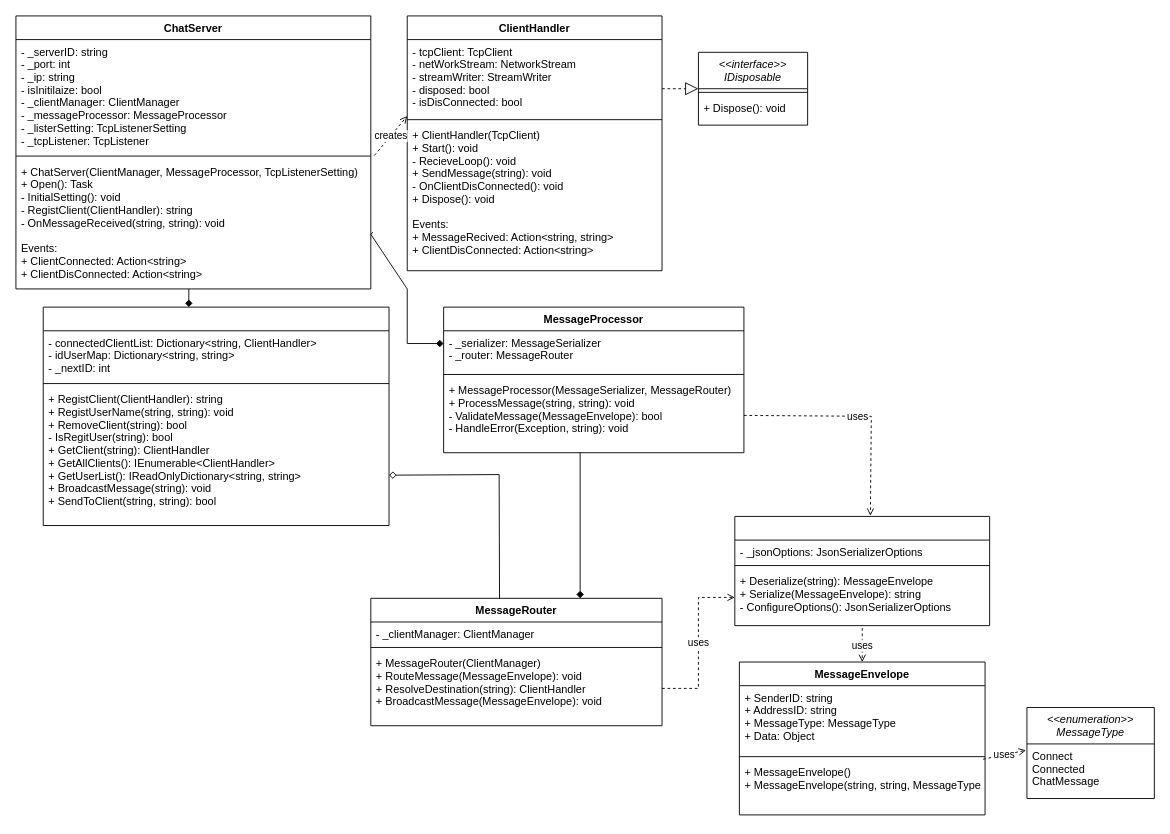
This 1170x834 diagram has some shape labels left out. Here are the shapes that lost their labels. From the top down, the box of each, then its label:
(42, 306, 389, 526): ClientManager
(734, 516, 990, 626): MessageSerializer
